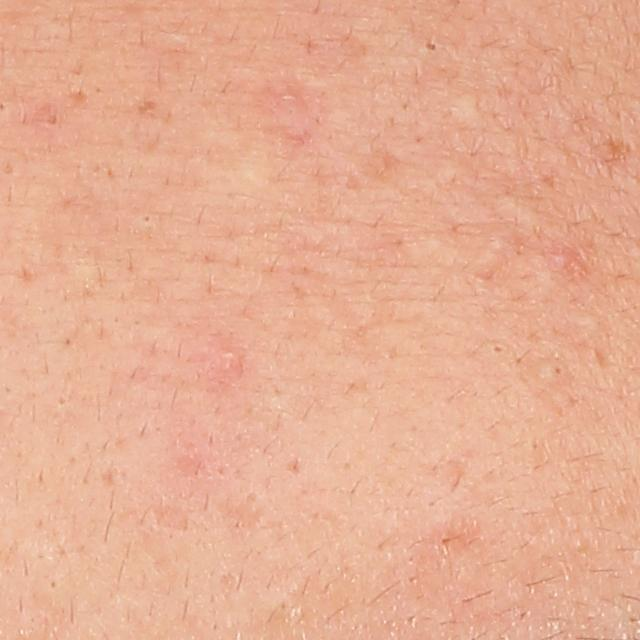comedo: (420, 35, 442, 56), (545, 364, 571, 381), (41, 112, 63, 131), (488, 340, 511, 358), (141, 211, 155, 226)
